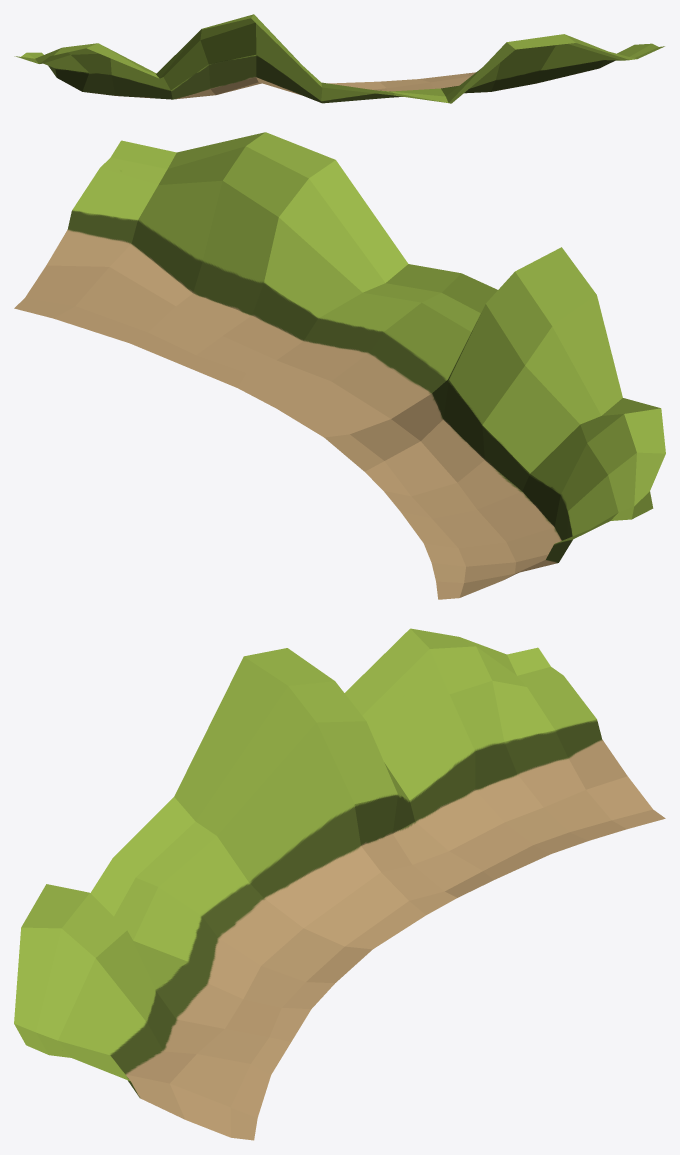
The model's file is planeRight.fbx.
3 renders of one model, top to bottom at view 1: azimuth 30°, elevation 25°; view 2: azimuth 150°, elevation 25°; view 3: azimuth 270°, elevation 25°, orthographic. The views are drawn at different scales.
Parts seen in each view (by area): view 1: pPlane17; view 2: pPlane17; view 3: pPlane17.
Part boxes in pixels (x1=…): pPlane17: x1=14, y1=14, x2=664, y2=103; pPlane17: x1=14, y1=132, x2=665, y2=599; pPlane17: x1=14, y1=628, x2=665, y2=1140.
Size of the model in its own units: 56.25 by 13.48 by 38.64.
